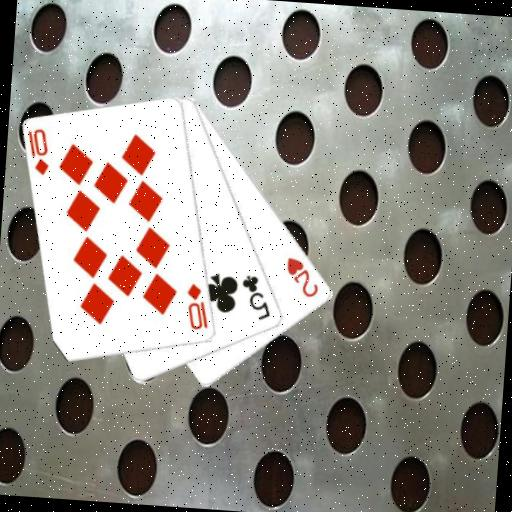10D: (182, 281, 213, 333), (24, 125, 54, 178)
2H: (282, 254, 323, 300)
5C: (237, 272, 276, 323)
